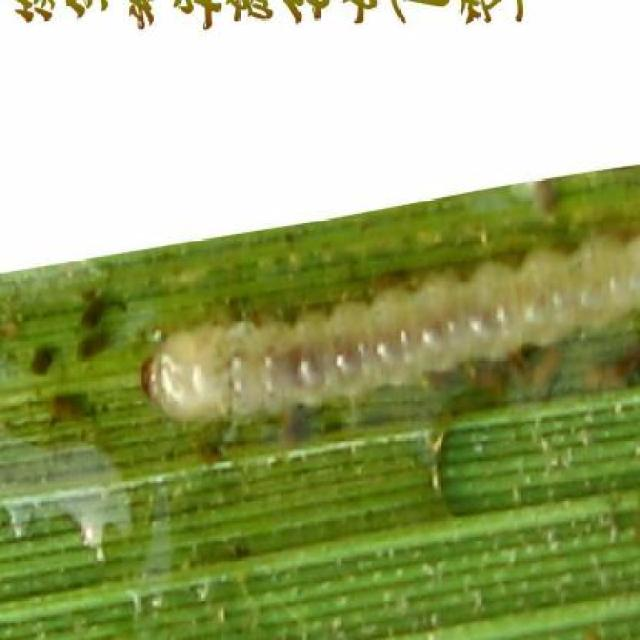leaf-folder: (129, 224, 640, 441)
